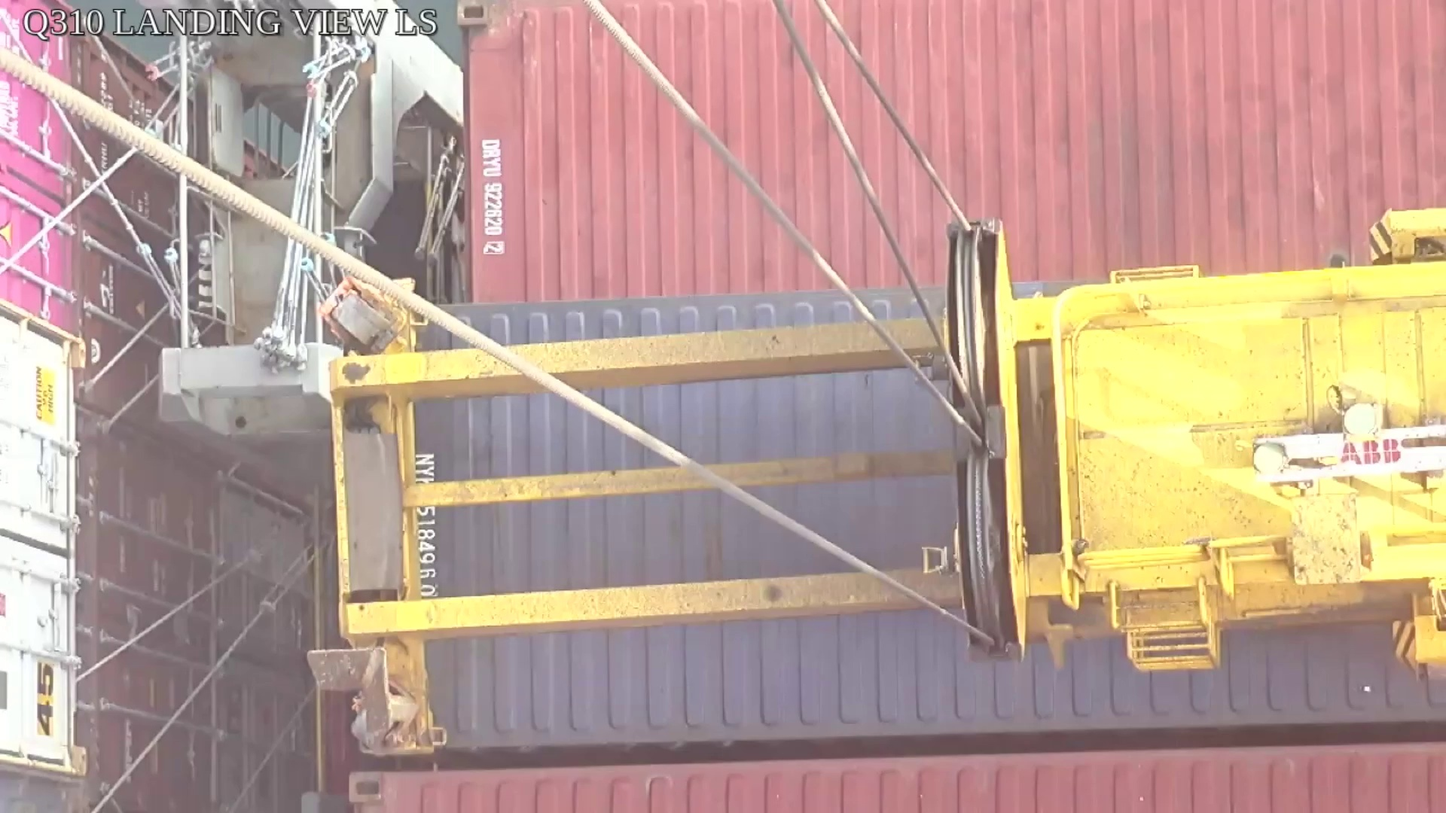aa: (943, 220, 1031, 662)
